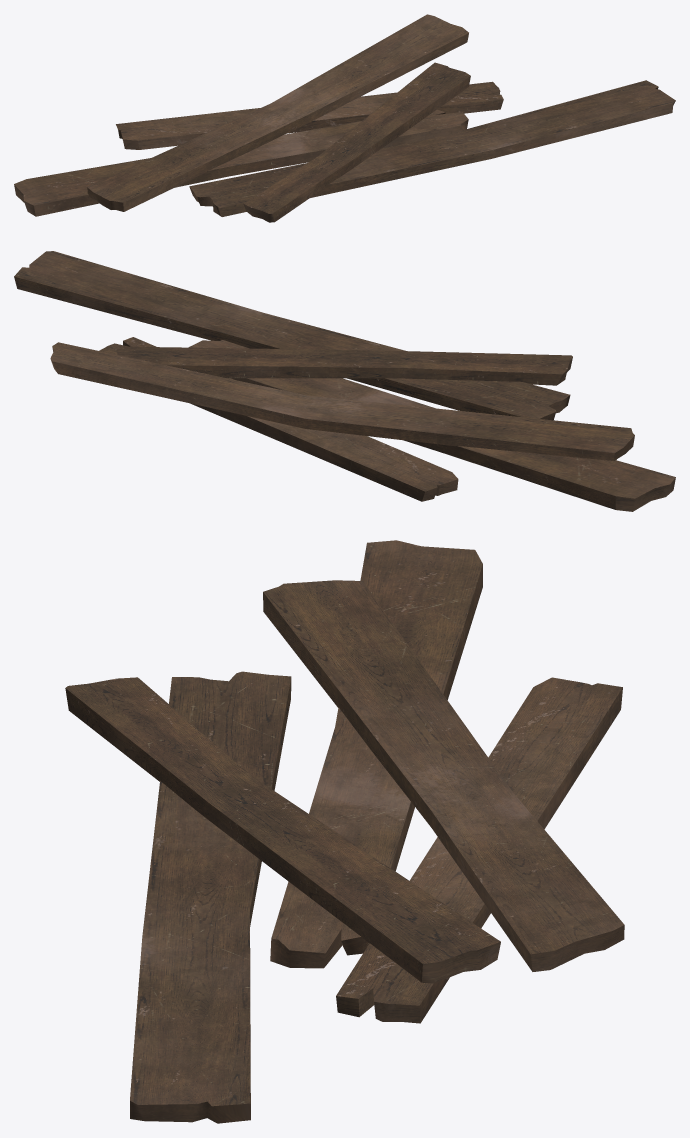
File: SM_Planks_02.fbx
3 views of the same model, one above another, from view 1: azimuth 30°, elevation 25°; view 2: azimuth 150°, elevation 25°; view 3: azimuth 270°, elevation 25° (orthographic). The views are drawn at different scales.
Parts seen in each view (by area): view 1: SM_Planks_02_LOD0; view 2: SM_Planks_02_LOD0; view 3: SM_Planks_02_LOD0.
Part boxes in pixels (box(x1,y1,x2,y2)): SM_Planks_02_LOD0: box(14, 14, 675, 222); SM_Planks_02_LOD0: box(14, 251, 675, 511); SM_Planks_02_LOD0: box(65, 540, 624, 1123).
Size of what is drawn, in the model's own units: 421 by 30.07 by 173.
